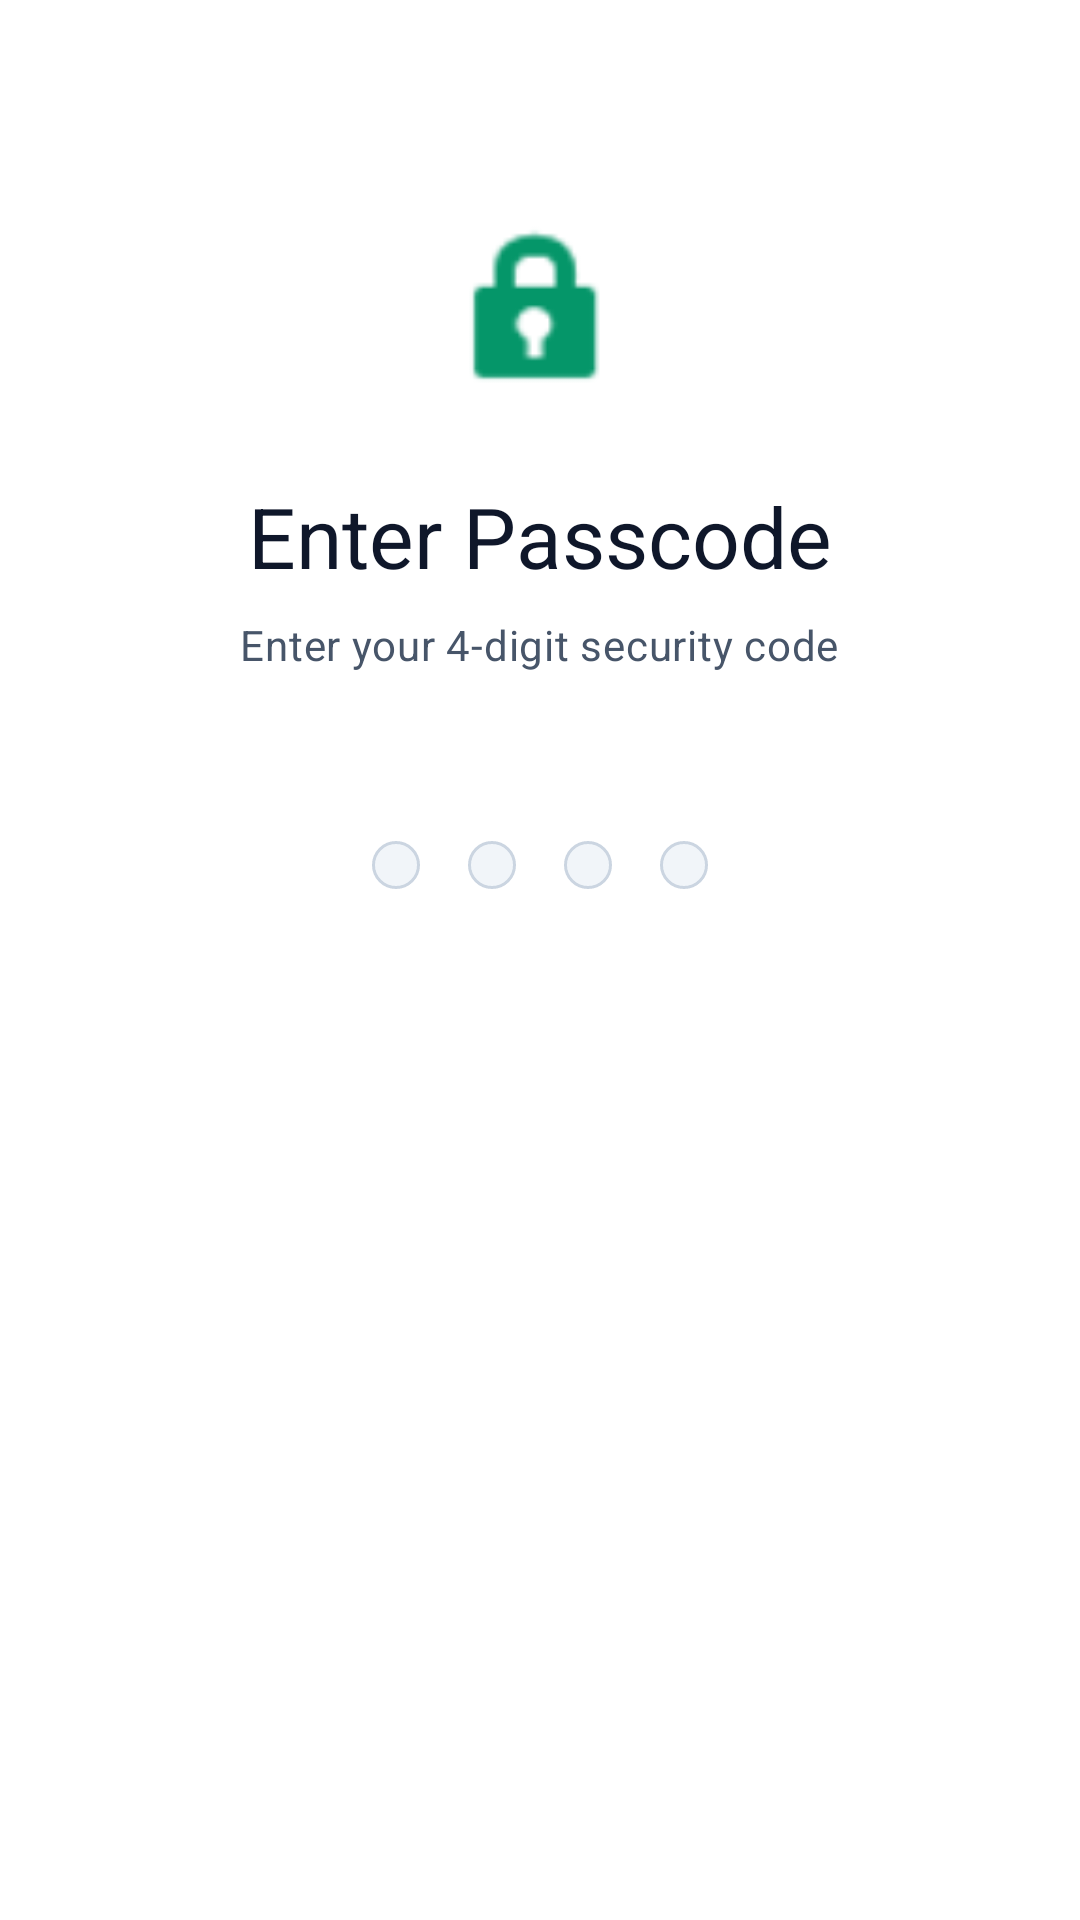

Icons on this 1080px x 1920px Android screen, each with its box as (x1,y1,x2,y2):
lock idle: (472,232,599,380)
